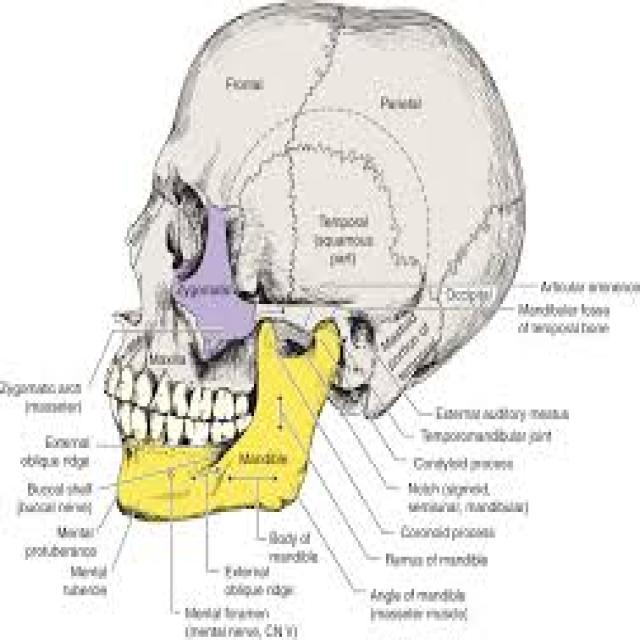skull: (105, 0, 535, 522)
